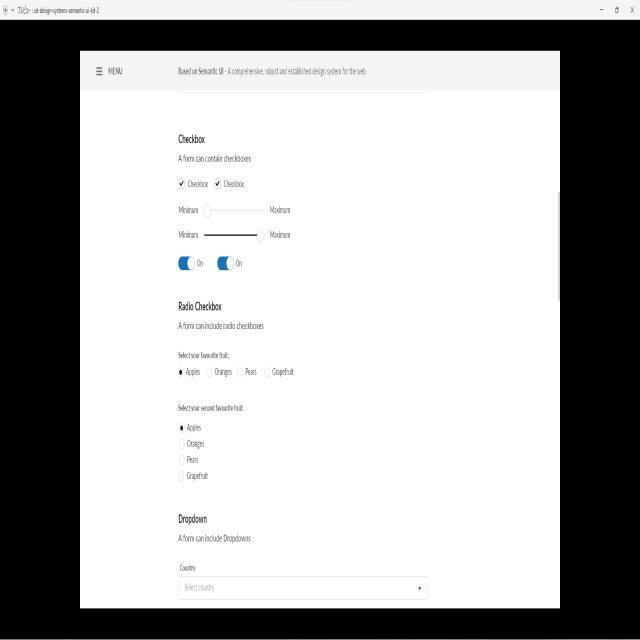checkbox: (215, 177, 222, 192), (178, 180, 186, 190)
radio: (177, 367, 186, 378), (179, 422, 184, 435)
toggle: (177, 254, 197, 272), (217, 252, 235, 272)
